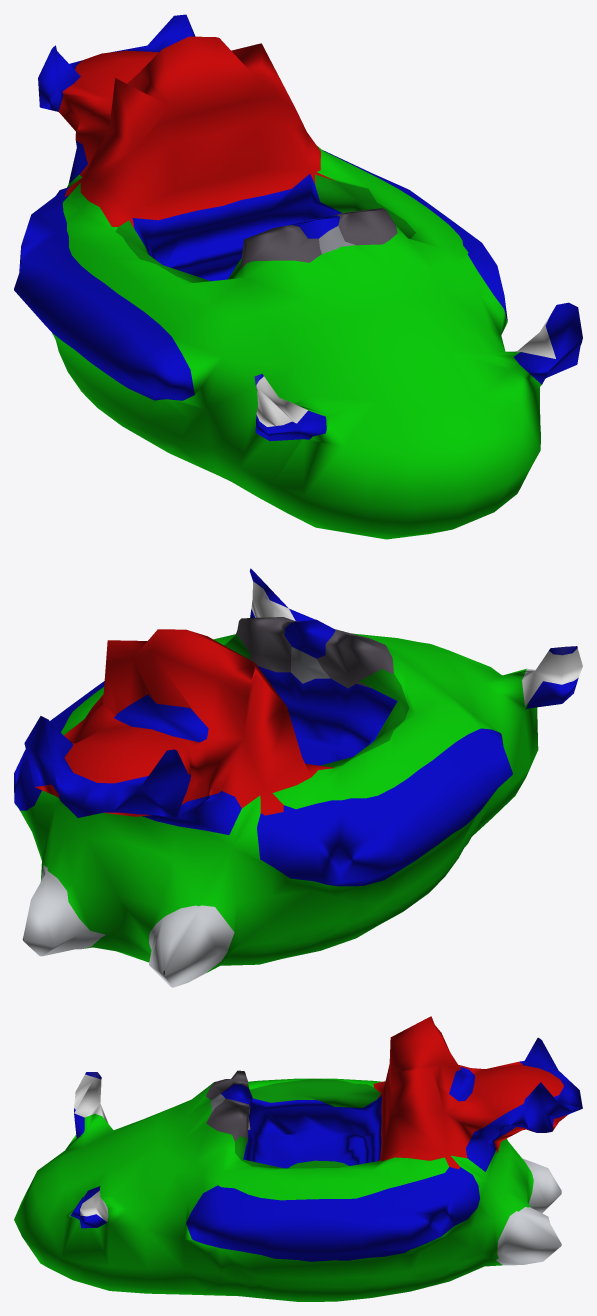
The model's file is body_coach_lo.glb.
The picture shows the model from 3 angles, top to bottom: view 1: azimuth 30°, elevation 25°; view 2: azimuth 150°, elevation 25°; view 3: azimuth 270°, elevation 25°; orthographic projection. The views are drawn at different scales.
Parts seen in each view (by area): view 1: body_coach_lo; view 2: body_coach_lo; view 3: body_coach_lo.
Part boxes in pixels (left/top/right/bottom): body_coach_lo: left=14, top=14, right=582, bottom=539; body_coach_lo: left=14, top=568, right=582, bottom=987; body_coach_lo: left=14, top=1016, right=582, bottom=1301.
Size of the model in its own units: 24.92 by 20.15 by 41.54.
